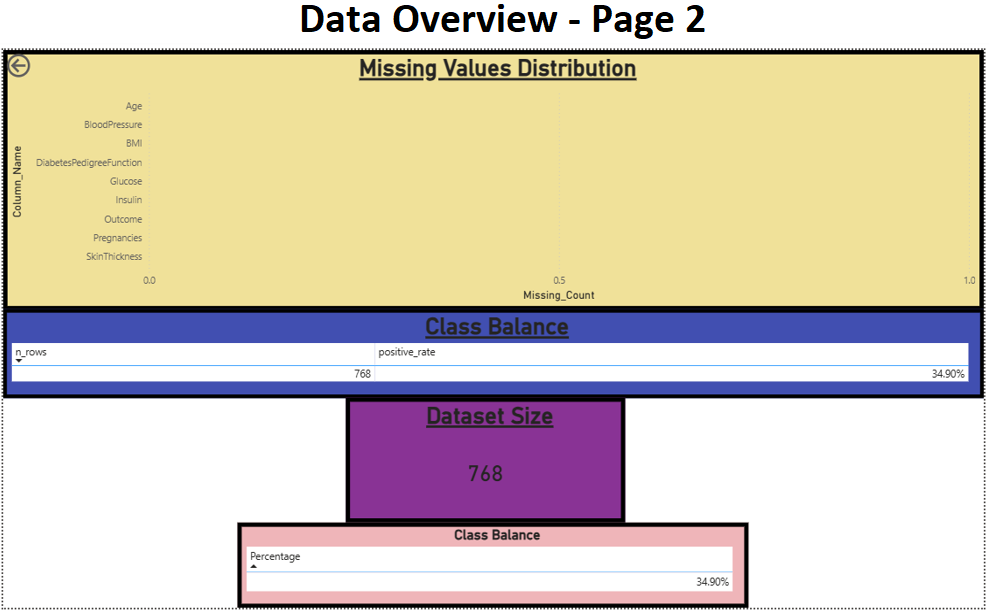

This screenshot's page, from the dashboard's own definition file:
{"tool":"powerbi","page":{"name":"Data Overview","canvas":[1280,720],"ordinal":1},"visuals":[{"type":"clusteredBarChart","title":"Missing Values Distribution","fields":{"Category":["missing_by_col_diabetes.column_name"],"Y":["Sum(missing_by_col_diabetes.missing_count)"]},"box":[0,0,1280.3,336.2],"z":0},{"type":"tableEx","title":"Class Balance","fields":{"Values":["Sum(summary_diabetes.n_rows)","Sum(summary_diabetes.positive_rate)"]},"box":[0,333.8,1280,115],"z":1000},{"type":"kpi","title":"Dataset Size","fields":{"Indicator":["Sum(summary_diabetes.n_rows)"],"TrendLine":["summary_diabetes.n_rows"]},"box":[447.5,448.8,365,161.2],"z":2000},{"type":"tableEx","title":"Class Balance","fields":{"Values":["summary_diabetes.positive_rate"]},"box":[305,610,667.5,110],"z":3000},{"type":"actionButton","box":[0,0,100,40],"z":4000}]}

Visuals, with their boxes in screenshot pixels (x1, y1, x2, y2):
"Missing Values Distribution" clusteredBarChart: locate(5, 52, 981, 308)
"Class Balance" tableEx: locate(5, 306, 980, 393)
"Dataset Size" kpi: locate(346, 393, 624, 516)
"Class Balance" tableEx: locate(238, 516, 746, 600)
actionButton: locate(5, 52, 81, 82)
